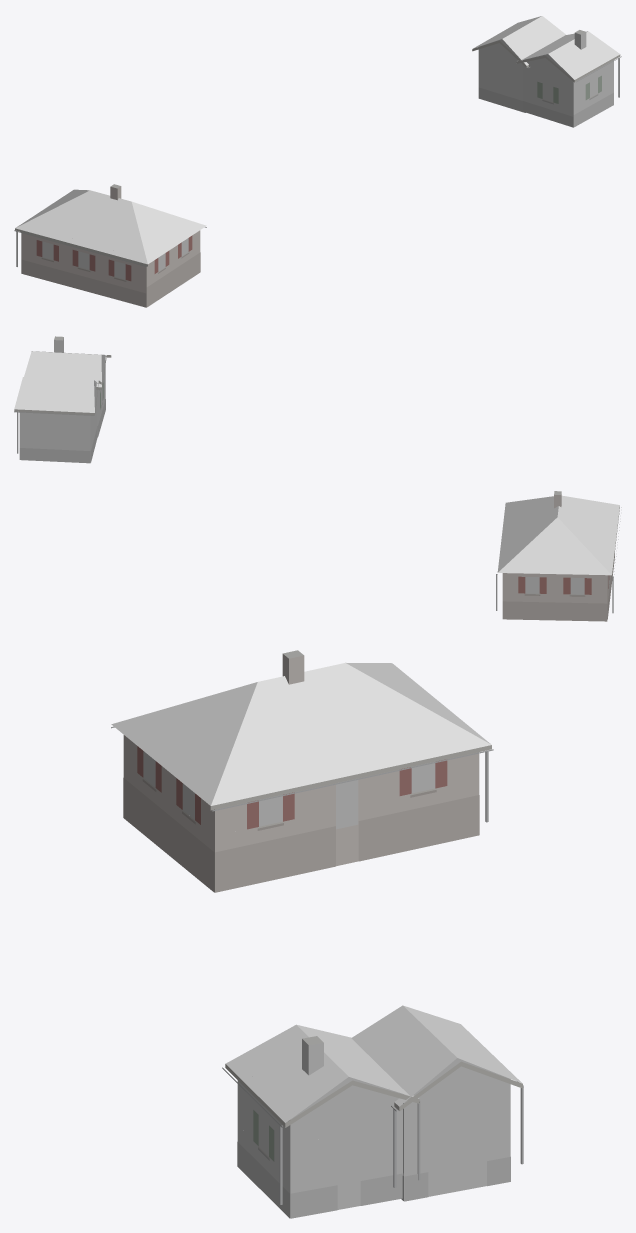
3 views of the same model, one above another, from view 1: azimuth 30°, elevation 25°; view 2: azimuth 150°, elevation 25°; view 3: azimuth 270°, elevation 25° (orthographic). The views are drawn at different scales.
Parts seen in each view (by area): view 1: bld; view 2: bld; view 3: bld.
Boxes of the visible parts, <box> form: bld: <box>14,16,621,307</box>; bld: <box>14,336,621,621</box>; bld: <box>111,650,523,1218</box>.
Size of the model in its own units: 50.04 by 10.16 by 15.56.
